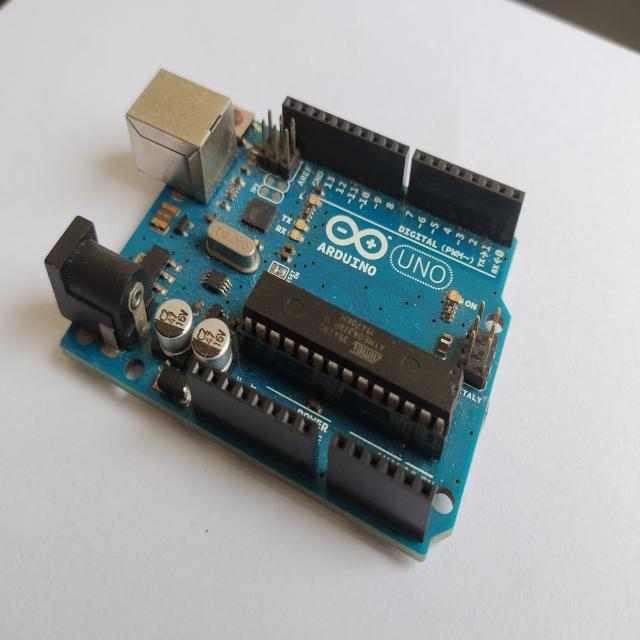arduino: (37, 57, 538, 570)
